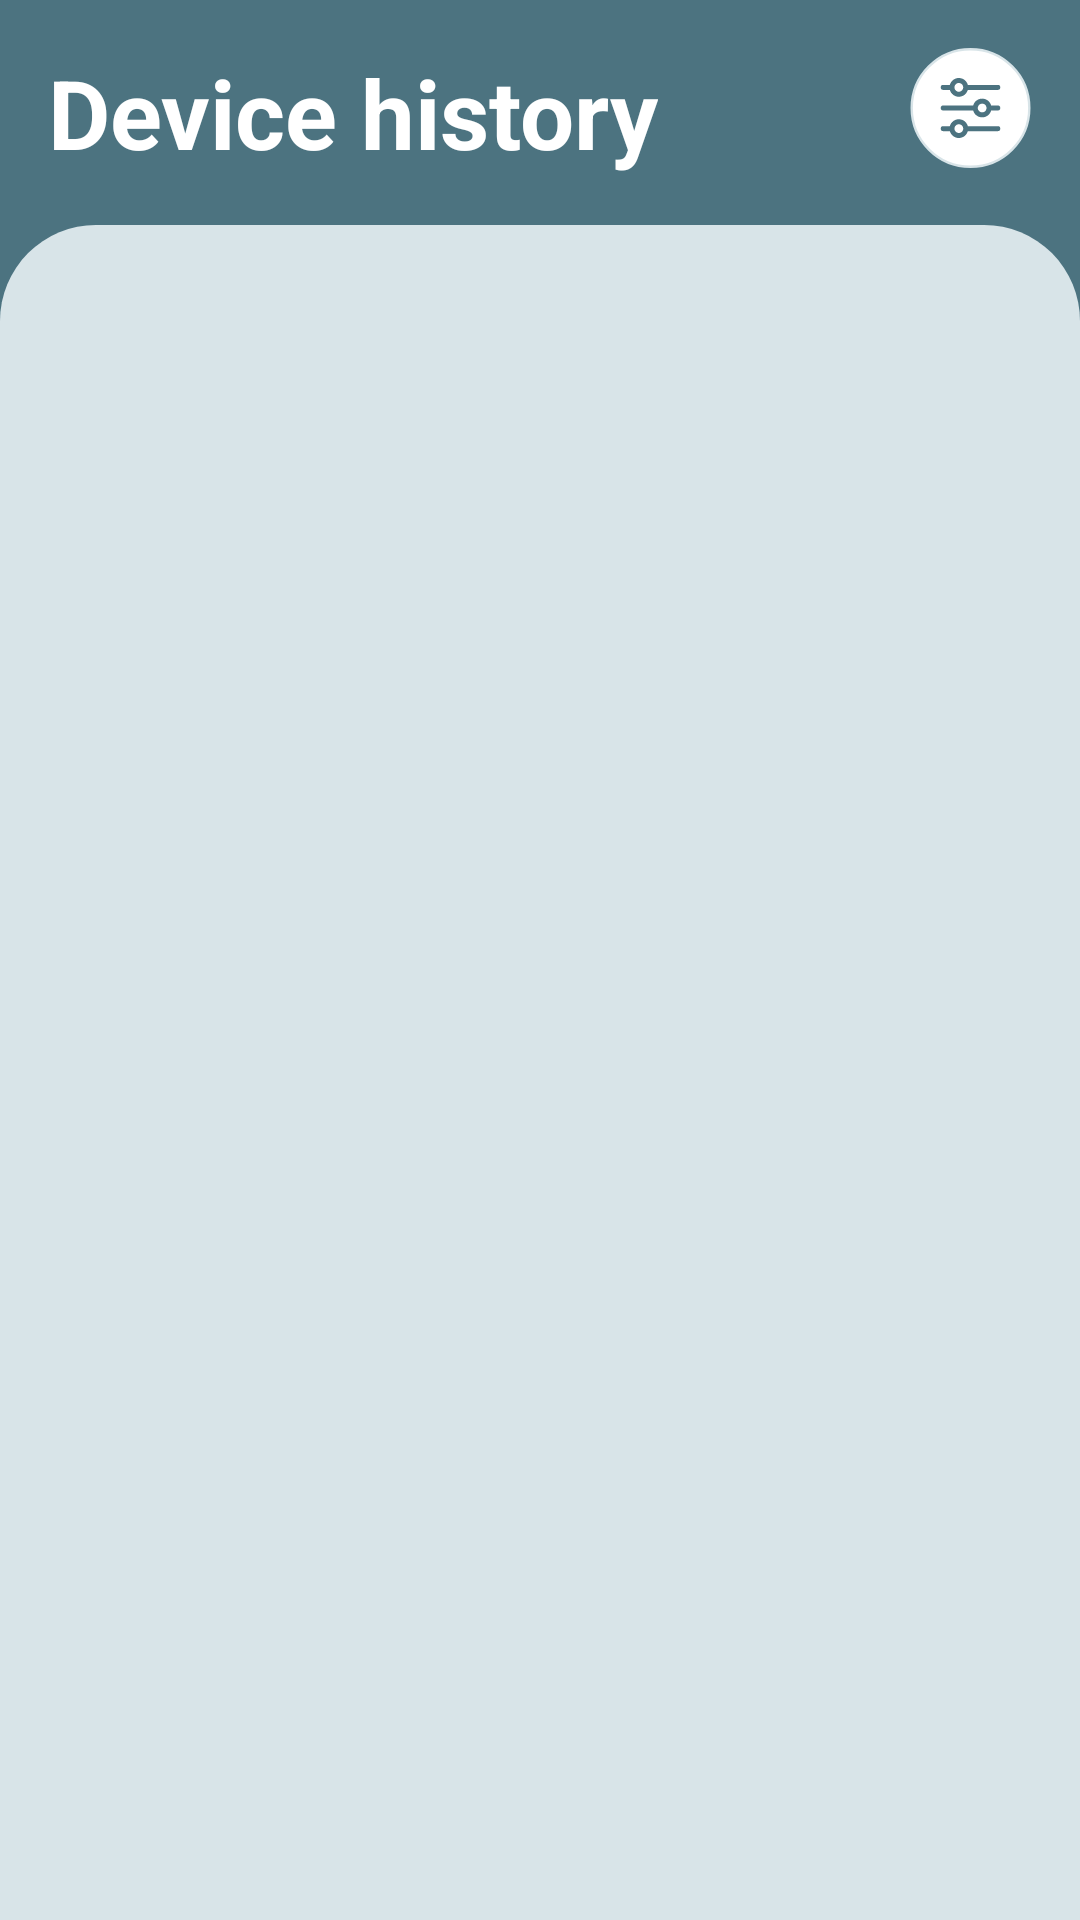

Named icons in this screenshot (1080 × 1920) and their bounding boxes, (x1, y1, x2, y2):
filter: (910, 48, 1031, 168)
